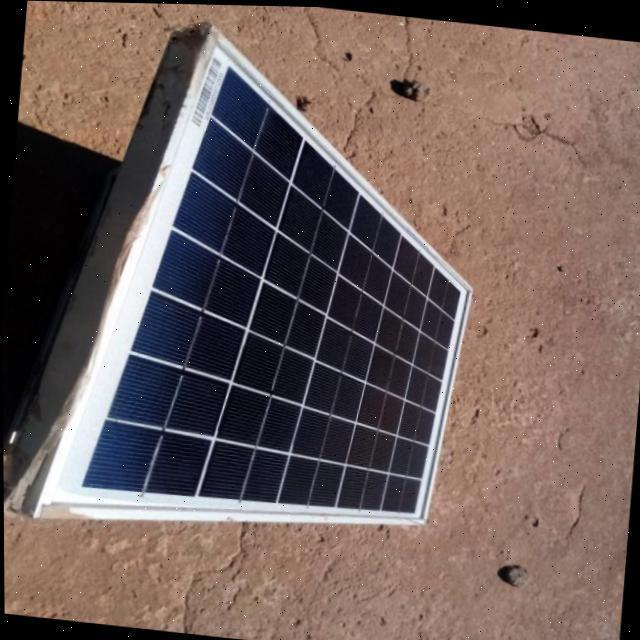Normal Solar Panel: (28, 14, 495, 558)
